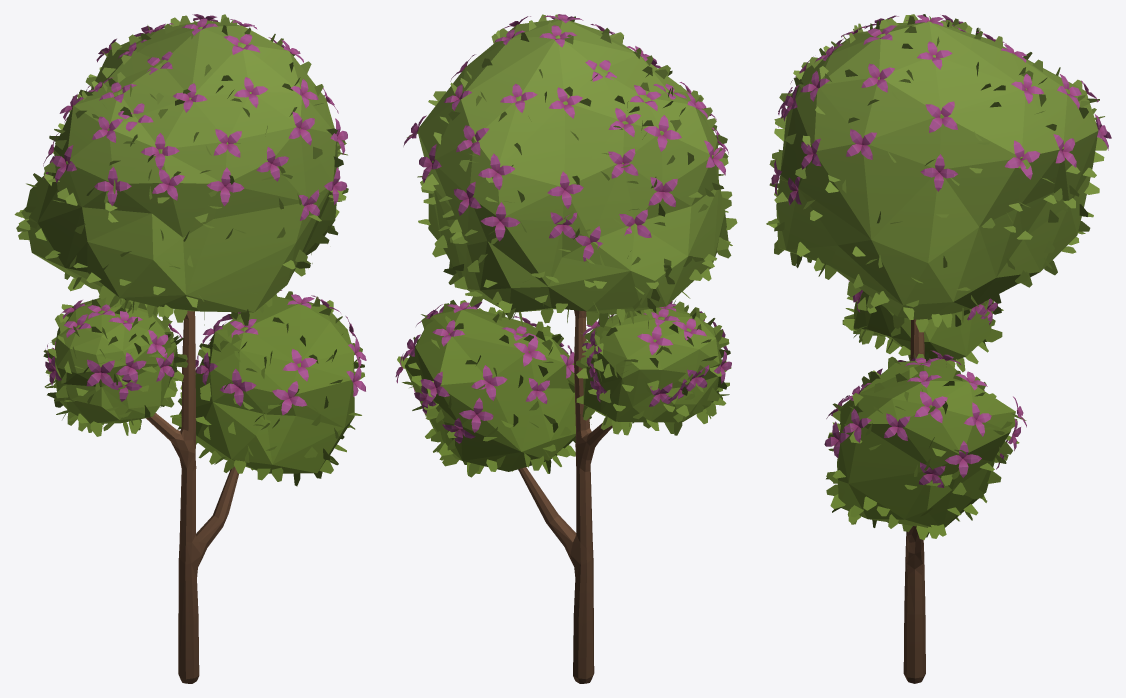
Rendered from Plant_06.fbx.
3 views of the same model, side by side, from view 1: azimuth 30°, elevation 25°; view 2: azimuth 150°, elevation 25°; view 3: azimuth 270°, elevation 25° (orthographic). The views are drawn at different scales.
Parts seen in each view (by area): view 1: Plant_06_LOD0; view 2: Plant_06_LOD0; view 3: Plant_06_LOD0.
Part boxes in pixels (box(x1,y1,x2,y2)): Plant_06_LOD0: box(14, 14, 366, 683); Plant_06_LOD0: box(395, 14, 737, 683); Plant_06_LOD0: box(766, 14, 1111, 683).
Size of what is drawn, in the model's own units: 0.9647 by 1.97 by 0.915.
